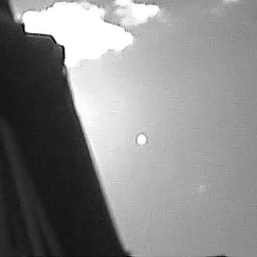Target: (137, 134, 145, 144)
